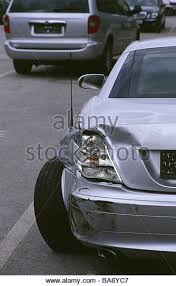Broken-glass: (76, 132, 117, 185)
Dent: (102, 123, 151, 185)
Scratch: (68, 192, 125, 244)
